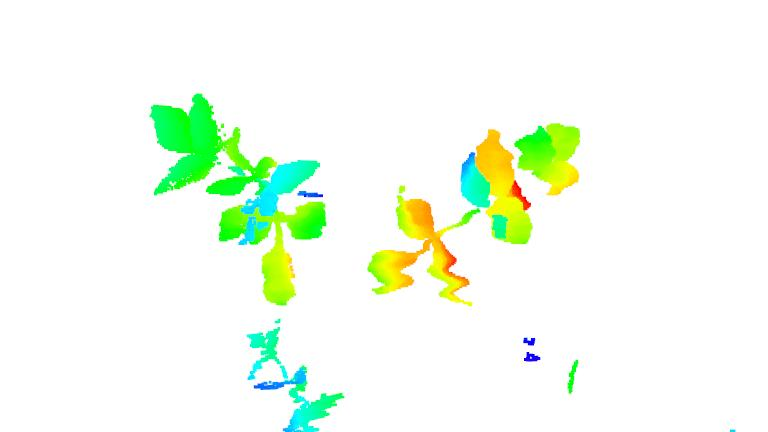mungbean: (363, 118, 589, 299), (146, 96, 325, 309), (238, 319, 345, 432)
